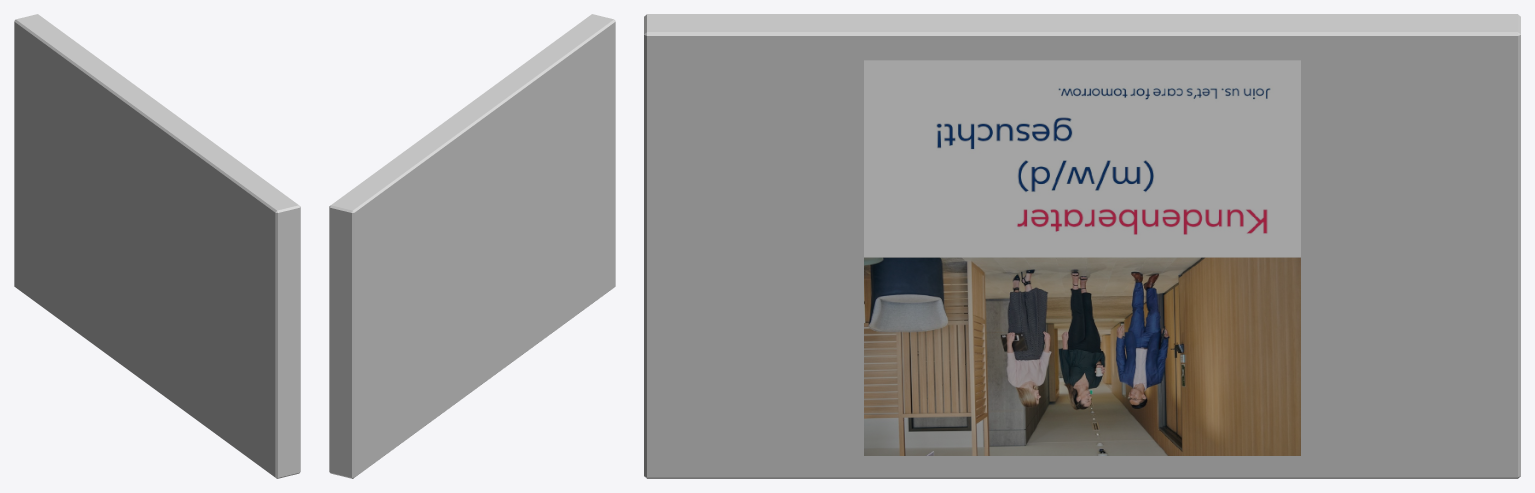
Rendered from main_screen.fbx.
3 views of the same model, side by side, from view 1: azimuth 30°, elevation 25°; view 2: azimuth 150°, elevation 25°; view 3: azimuth 270°, elevation 25° (orthographic). The views are drawn at different scales.
Parts seen in each view (by area): view 1: screen_main; view 2: screen_main; view 3: screen_main.
Boxes of the visible parts, left/top/right/bottom form: screen_main: left=14, top=14, right=300, bottom=478; screen_main: left=329, top=14, right=615, bottom=478; screen_main: left=644, top=14, right=1520, bottom=478.
Size of the model in its own units: 0.165 by 1.57 by 2.79.
2 materials, 1 textured.
